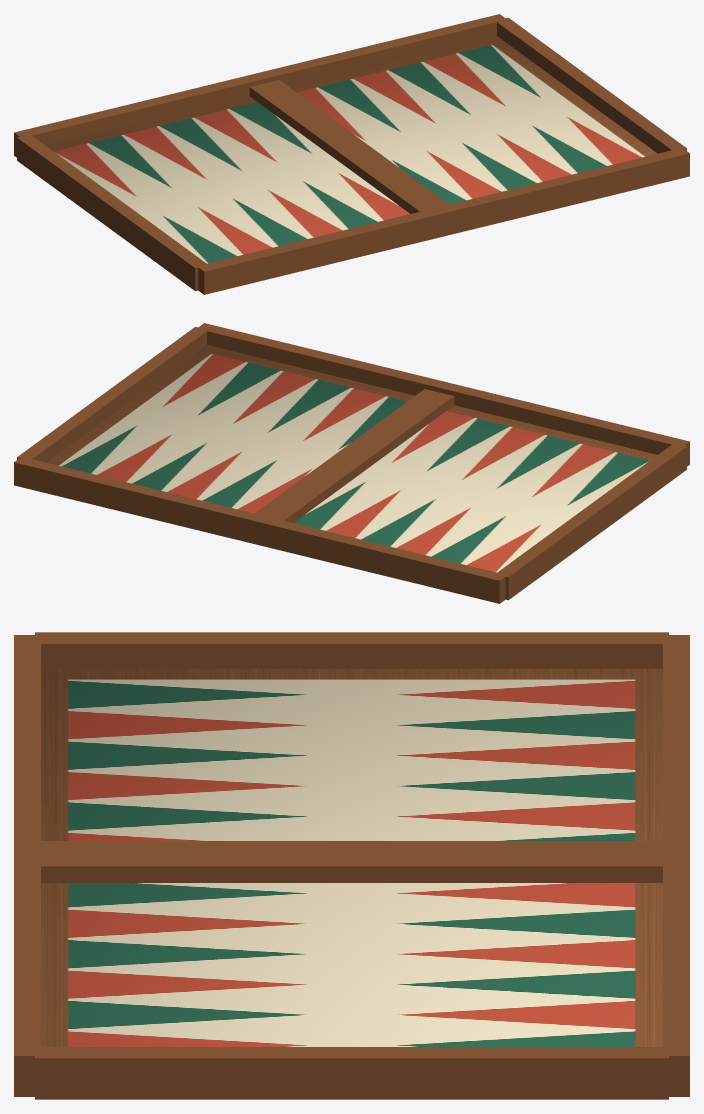
File: tavla.glb
3 renders of one model, top to bottom at view 1: azimuth 30°, elevation 25°; view 2: azimuth 150°, elevation 25°; view 3: azimuth 270°, elevation 25°, orthographic. The views are drawn at different scales.
Visible parts, largest first — view 1: TAVLA_board; view 2: TAVLA_board; view 3: TAVLA_board.
Part boxes in pixels (x1,y1,x2,y2): TAVLA_board: [14, 14, 689, 294]; TAVLA_board: [14, 323, 689, 603]; TAVLA_board: [14, 632, 689, 1099].
Bounding box in the file's own units: 0.668 × 0.03 × 0.448.
Materials: 5 (2 with a texture image).
